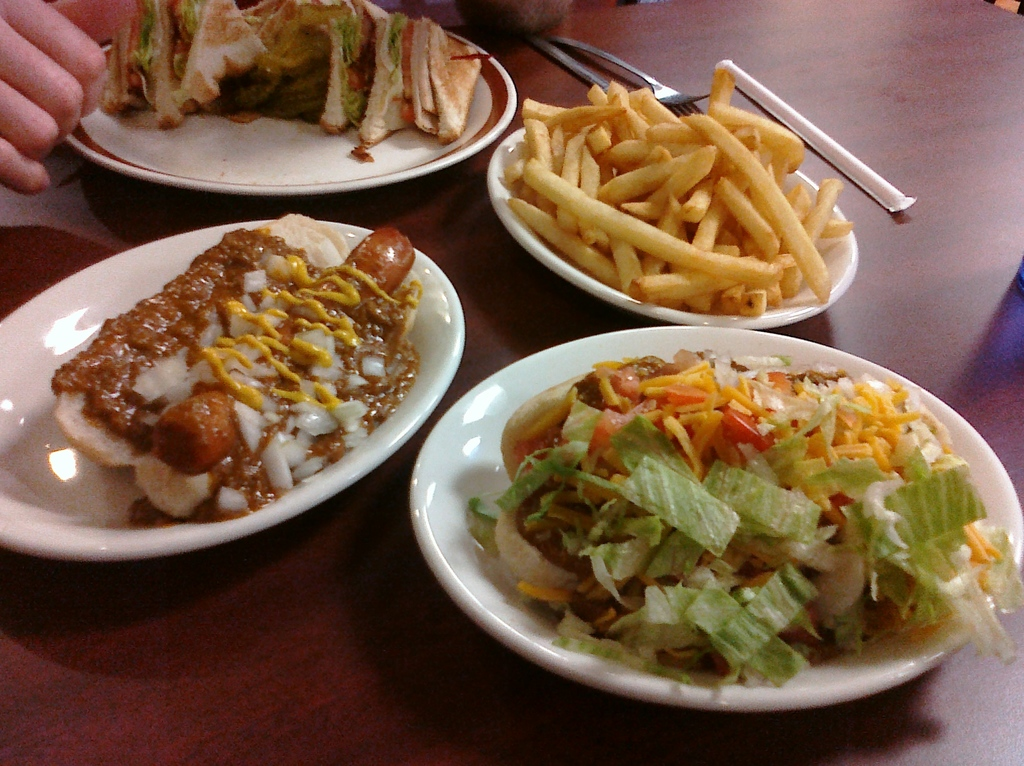French fries: (488, 62, 867, 307)
